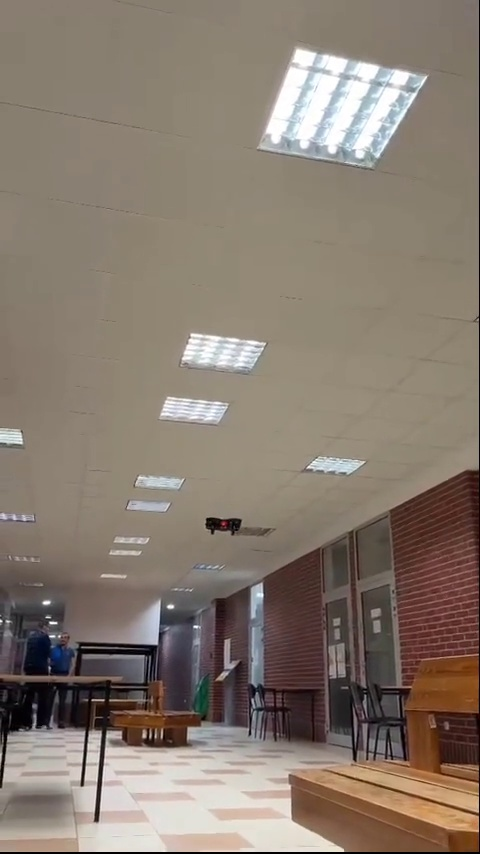drone: (201, 515, 248, 539)
no vest: (21, 620, 51, 725), (51, 626, 80, 724)
